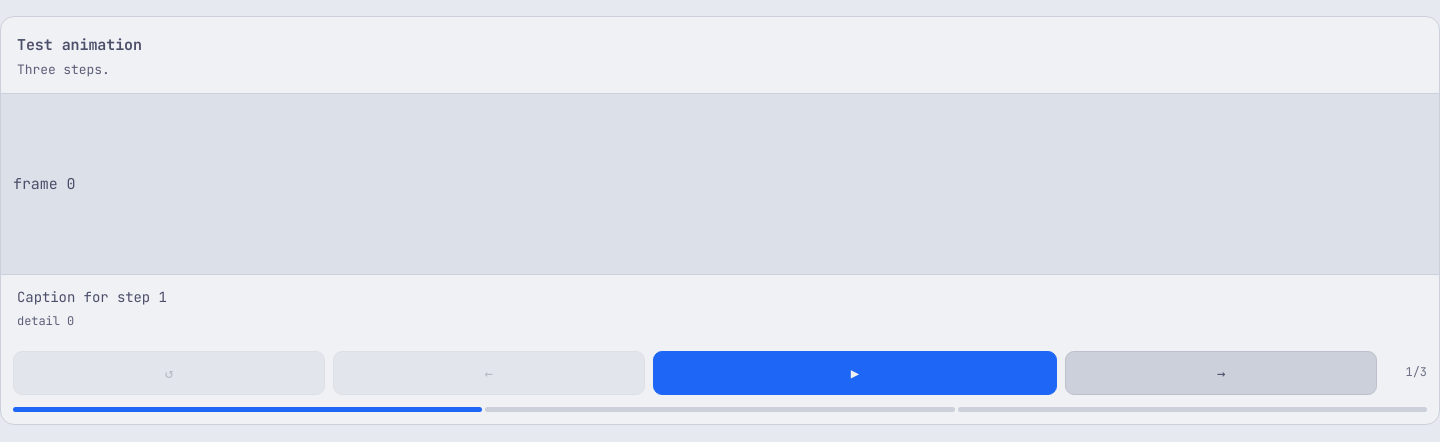
Test: AnimationPlayer › jumps to a step via the tick strip
Click the 3rd button named "Step 3".
click(1192, 410)  # box left=958, top=407, right=1427, bottom=412
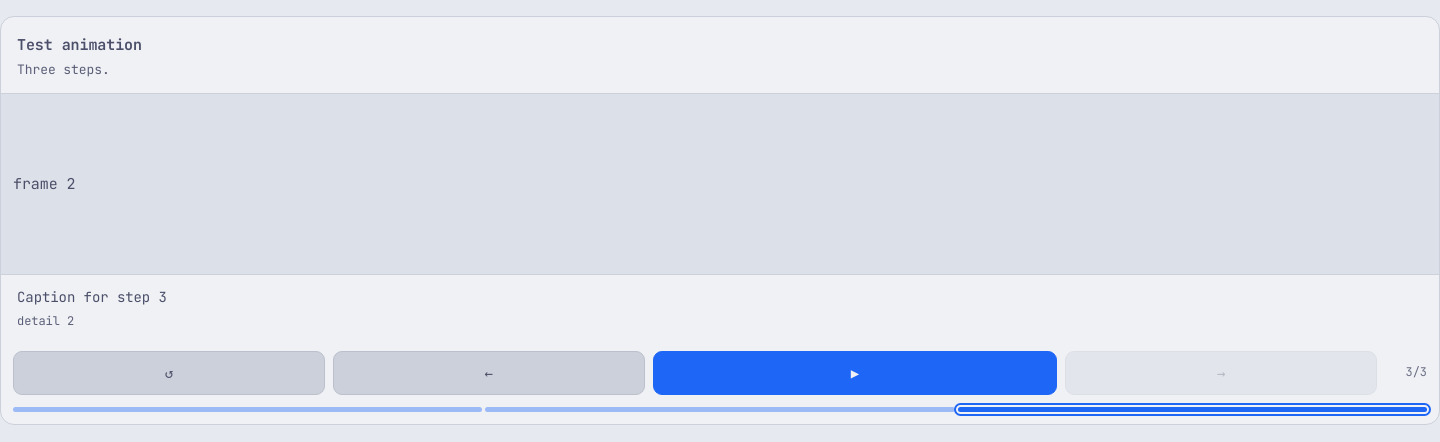
Now the text with test id "frame" reads "frame 2", box left=13, top=174, right=76, bottom=194
